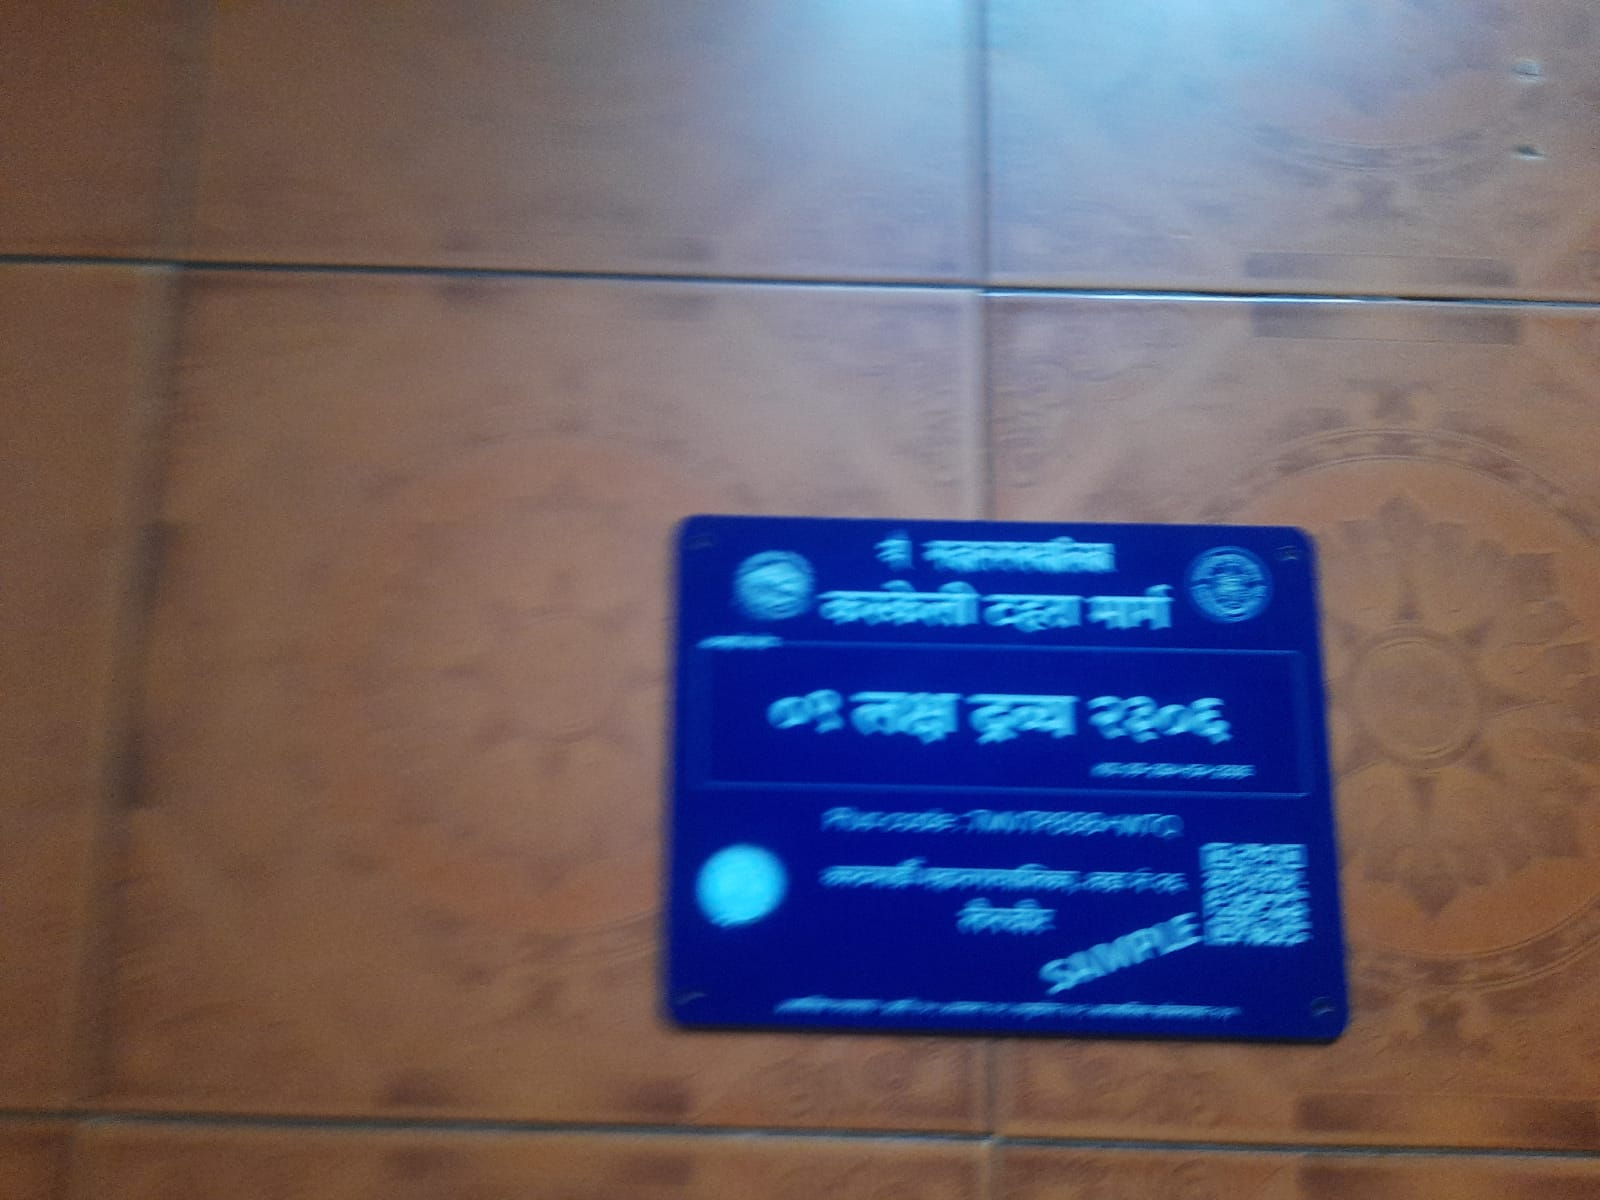Plate: (659, 507, 1360, 1050)
